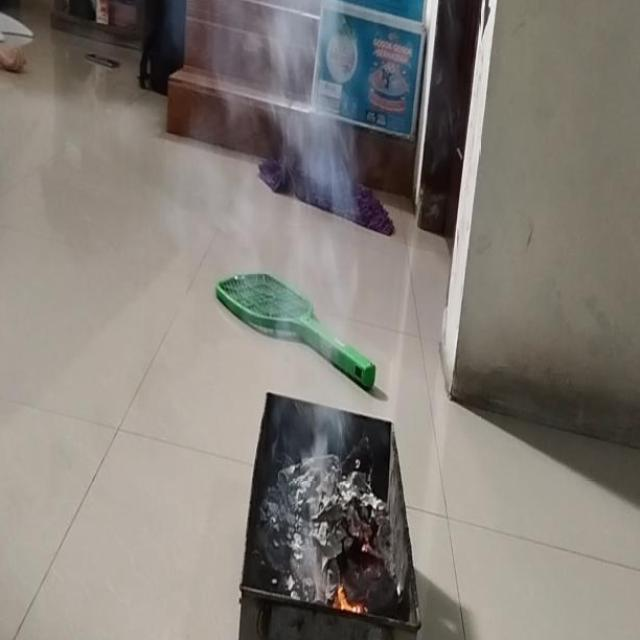fire: (268, 2, 371, 455)
smoke: (327, 580, 374, 618)
